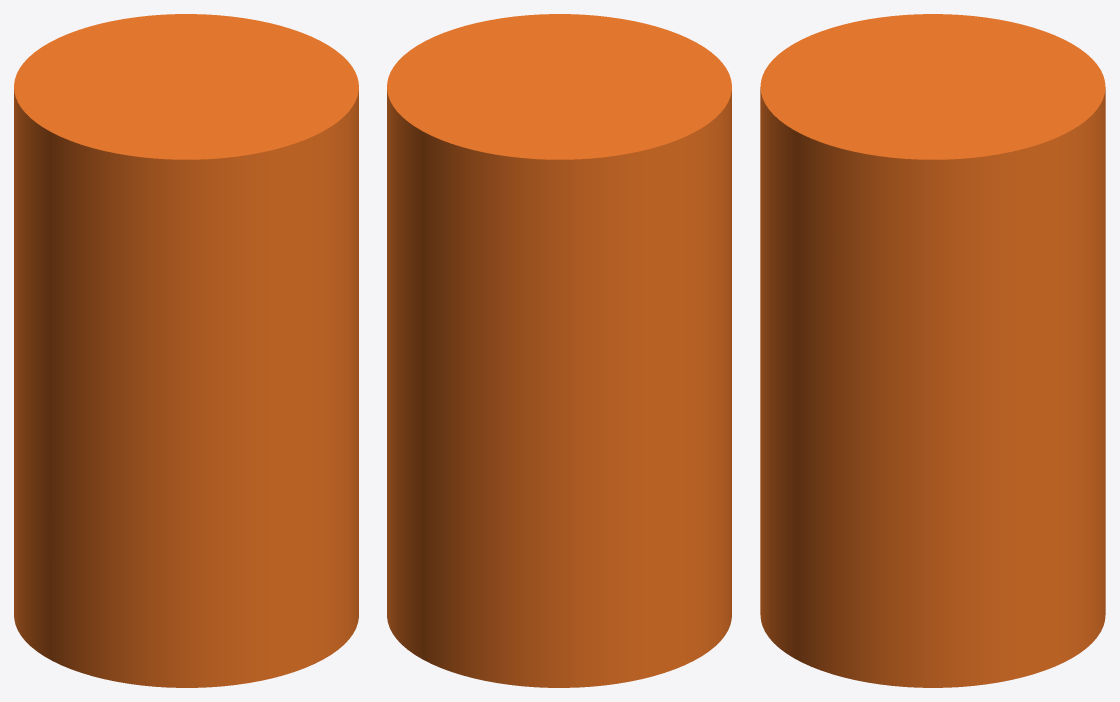
3 views of the same model, side by side, from view 1: azimuth 30°, elevation 25°; view 2: azimuth 150°, elevation 25°; view 3: azimuth 270°, elevation 25° (orthographic).
Visible parts, largest first — view 1: mesh_id27; view 2: mesh_id27; view 3: mesh_id27.
Boxes of the visible parts, x1=… form: mesh_id27: x1=14, y1=14, x2=358, y2=687; mesh_id27: x1=387, y1=14, x2=731, y2=687; mesh_id27: x1=760, y1=14, x2=1105, y2=687.
Bounding box in the file's own units: 0.1221 × 0.2062 × 0.1221.
Materials: 1 (1 with a texture image).
